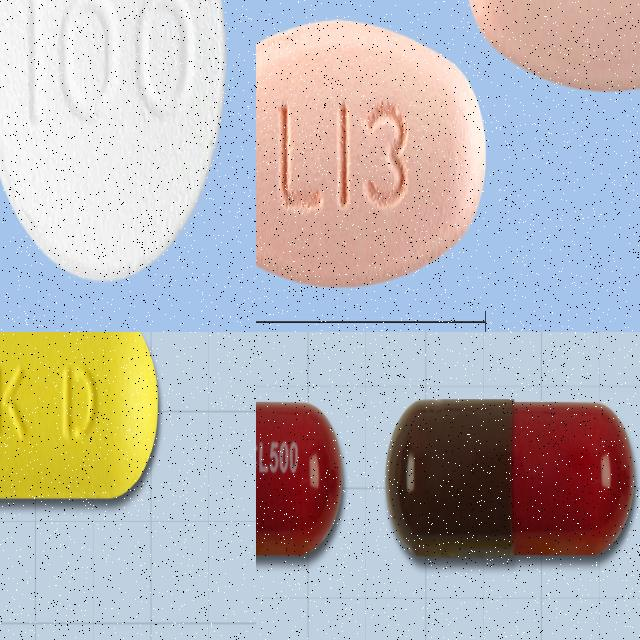Gomcillin Cap -250mg: (386, 399, 636, 561), (256, 395, 343, 564)
Levoable: (256, 19, 486, 286)
Levona -500mg: (0, 0, 226, 284)
Pyrocin Tab: (0, 332, 159, 499)
